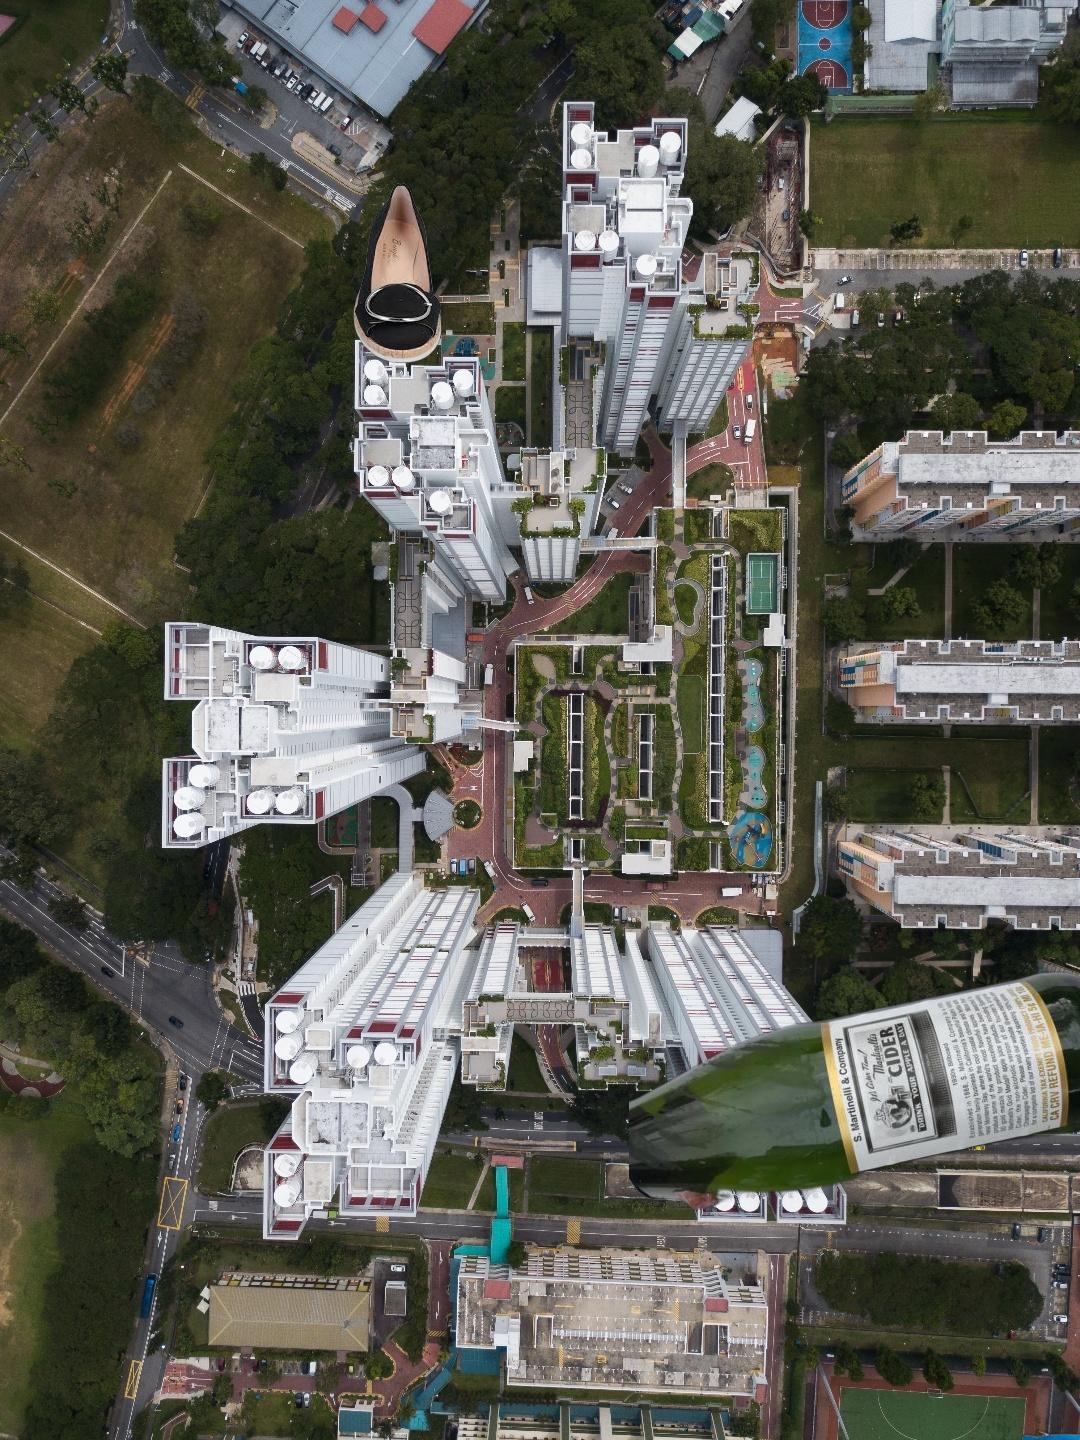glass: (628, 968, 1080, 1212)
plastic-bag: (1009, 1429, 1080, 1440)
plastic-bottles: (1020, 723, 1080, 958)
shoes: (351, 180, 444, 366)
